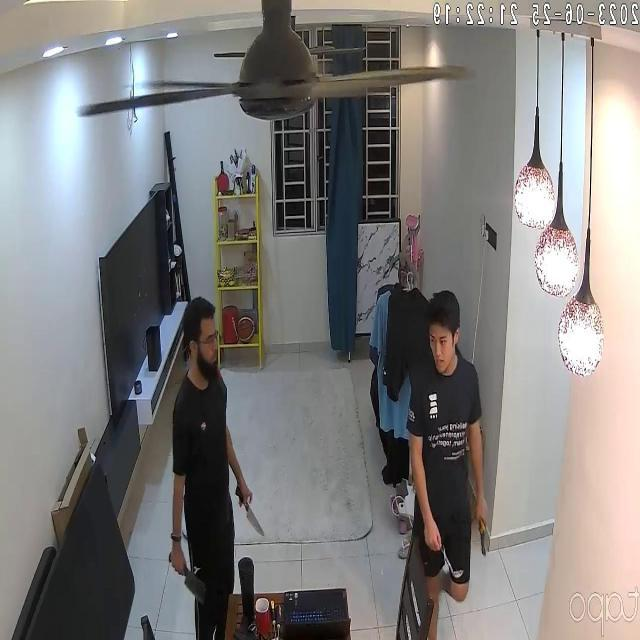Knife: (163, 551, 210, 603), (232, 483, 272, 539)
